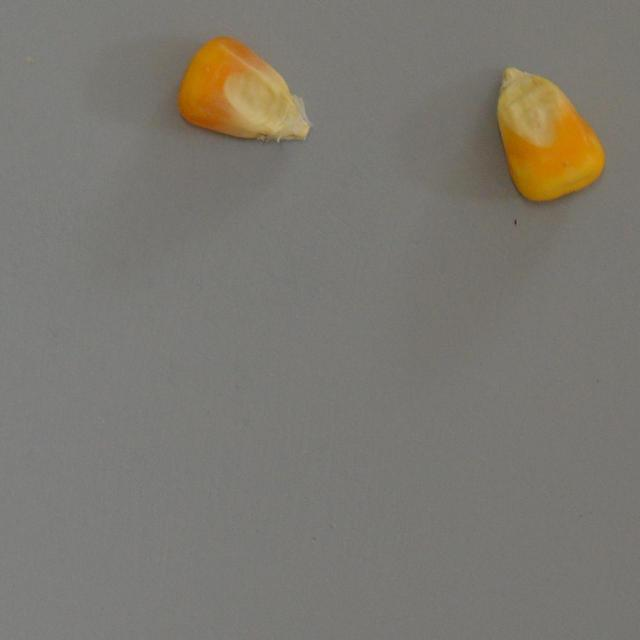entero: (487, 63, 608, 206), (170, 36, 314, 153)
